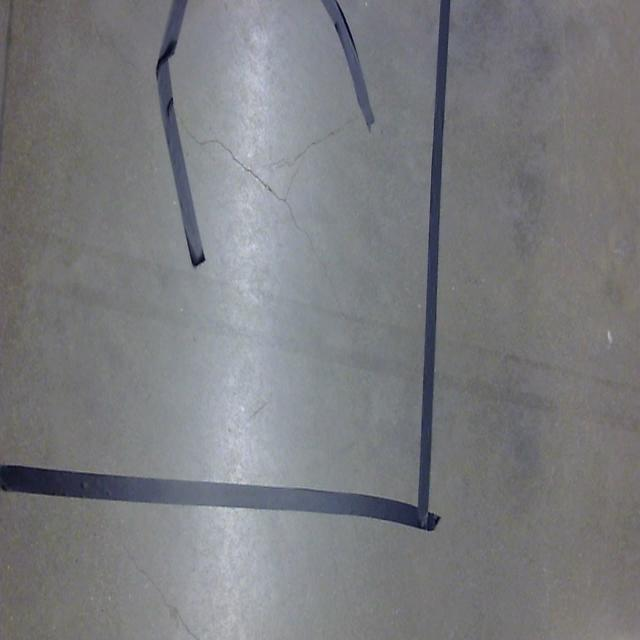tape: (0, 0, 460, 549), (147, 0, 212, 285), (308, 0, 388, 148)
